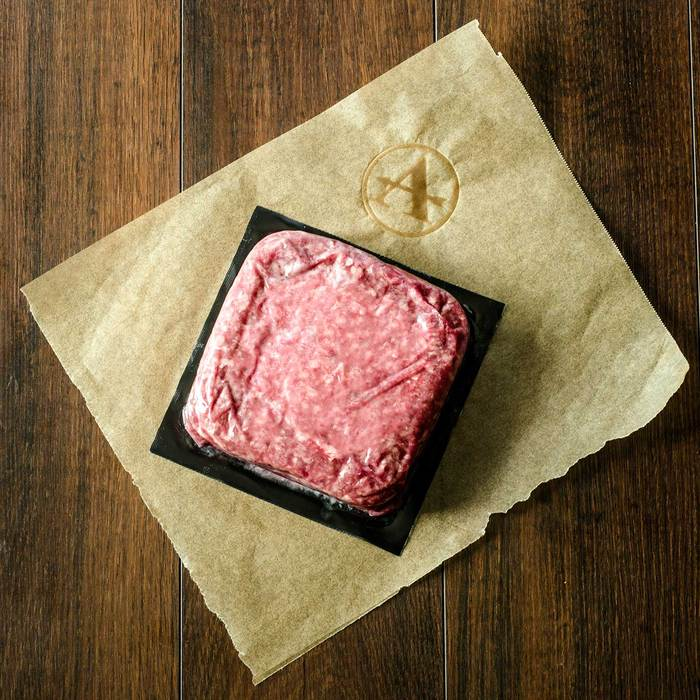ground_beef: (183, 213, 460, 500)
